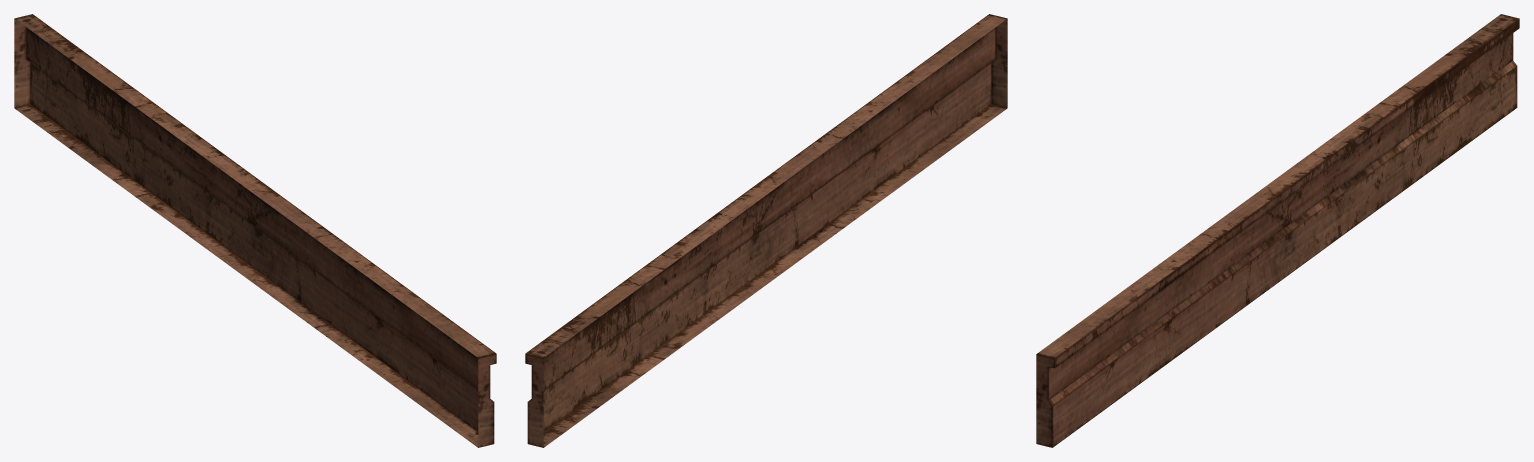
File: Plank.fbx
The picture shows the model from 3 angles, left to right: view 1: azimuth 30°, elevation 25°; view 2: azimuth 150°, elevation 25°; view 3: azimuth 330°, elevation 25°; orthographic projection.
Visible parts, largest first — view 1: Skirt.002; view 2: Skirt.002; view 3: Skirt.002.
Boxes of the visible parts, x1,y1,x2,y2 form: Skirt.002: (14, 14, 496, 447); Skirt.002: (525, 14, 1007, 447); Skirt.002: (1036, 14, 1519, 447).
Size of the model in its own units: 0.0458 by 2 by 0.2135.
1 material, 1 textured.
